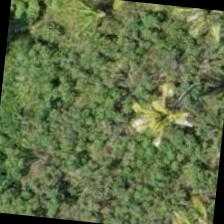Kelapa_Sawit: (111, 62, 210, 162), (160, 5, 223, 63)
